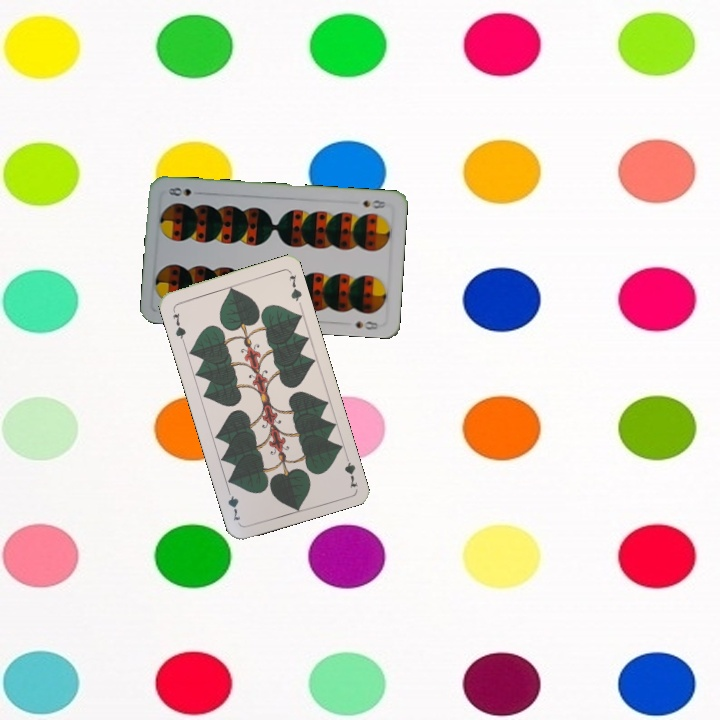G7: (168, 304, 189, 344), (341, 449, 360, 490)
S8: (358, 196, 388, 211)
